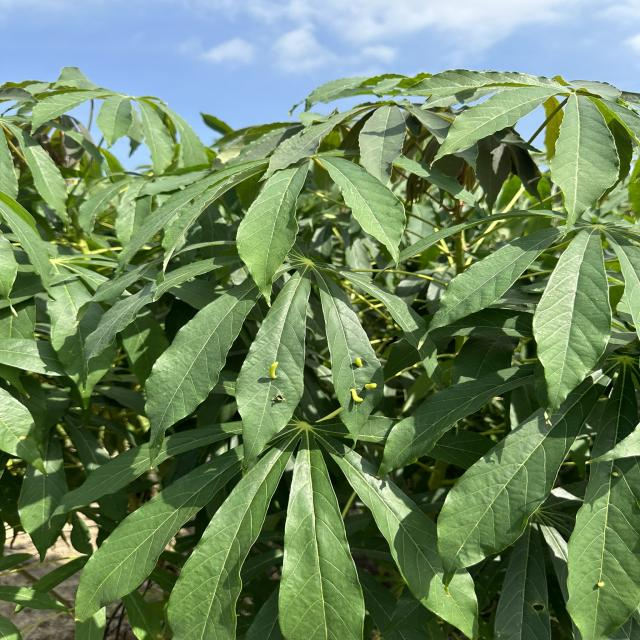Mosca: (347, 376, 380, 406), (596, 457, 629, 487), (583, 569, 609, 599), (265, 358, 282, 384), (348, 353, 366, 370)
